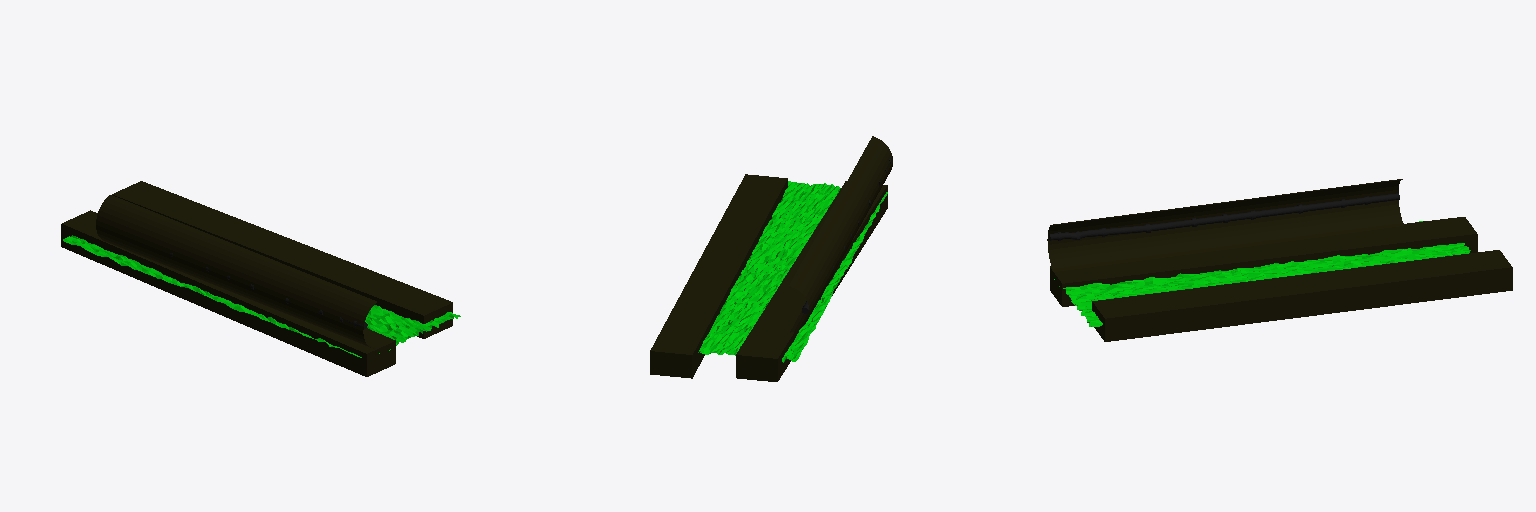
Rendered from egout.obj.
3 renders of one model, left to right at view 1: azimuth 30°, elevation 25°; view 2: azimuth 150°, elevation 25°; view 3: azimuth 270°, elevation 25°, orthographic.
Visible parts, largest first — view 1: Cylinder, Cube.001, Cube, Plane.001; view 2: Cube.001, Plane.001, Cylinder, Cube; view 3: Cube.001, Cylinder, Cube, Plane.001, Cylinder.001.
Boxes of the visible parts, box(x1,y1,x2,y2) form: Cylinder: box(96, 195, 376, 348); Cube.001: box(112, 181, 452, 338); Cube: box(61, 210, 395, 376); Plane.001: box(63, 235, 460, 357); Cube.001: box(650, 174, 787, 378); Plane.001: box(698, 181, 887, 362); Cylinder: box(789, 136, 892, 332); Cube: box(736, 181, 887, 381); Cube.001: box(1092, 250, 1512, 341); Cylinder: box(1047, 179, 1403, 271); Cube: box(1050, 217, 1477, 306); Plane.001: box(1054, 221, 1470, 326); Cylinder.001: box(1049, 193, 1399, 240).
Size of the model in its own units: 67.58 by 21.05 by 123.